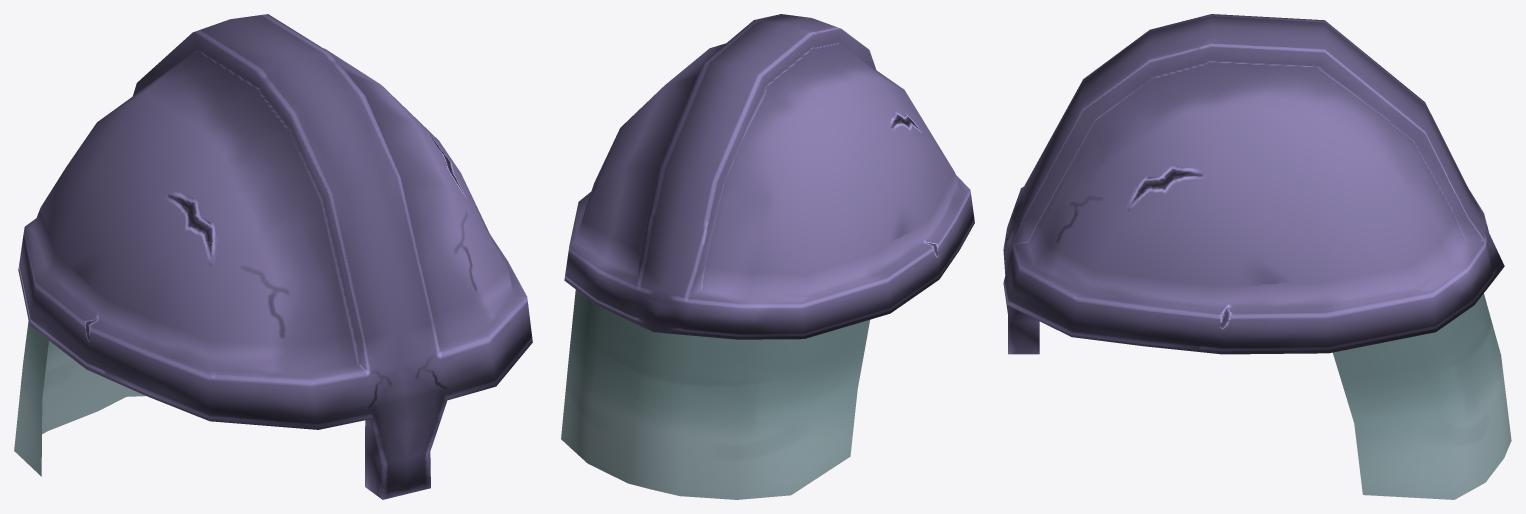
Rendered from Knight_Helmet.fbx.
The picture shows the model from 3 angles, left to right: view 1: azimuth 30°, elevation 25°; view 2: azimuth 150°, elevation 25°; view 3: azimuth 270°, elevation 25°; orthographic projection. The views are drawn at different scales.
Visible parts, largest first — view 1: Knight_Helmet; view 2: Knight_Helmet; view 3: Knight_Helmet.
Boxes of the visible parts, bbox=[...] form: Knight_Helmet: bbox=[14, 14, 532, 499]; Knight_Helmet: bbox=[561, 14, 974, 499]; Knight_Helmet: bbox=[1003, 14, 1511, 499].
Bounding box in the file's own units: 70.96 × 78.36 × 86.49.
